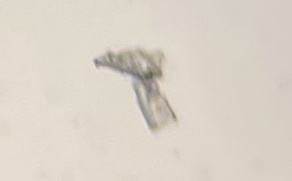microplastic: (93, 49, 177, 132)
